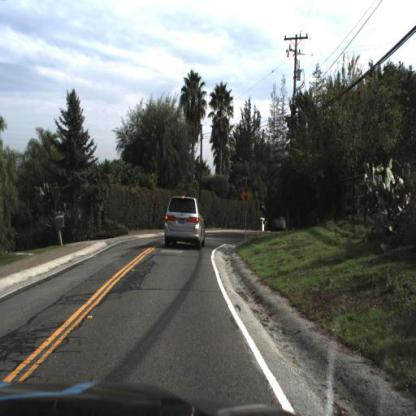car: (163, 189, 214, 253)
